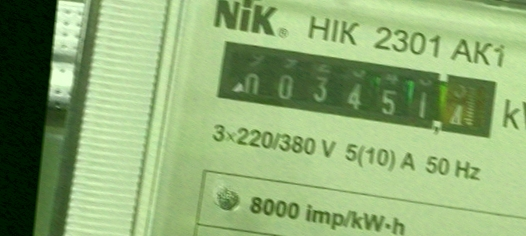0: (239, 66, 262, 95), (274, 70, 296, 100)
1: (413, 86, 432, 119)
3: (309, 70, 331, 103)
4: (342, 78, 365, 112), (444, 99, 467, 128)
5: (378, 84, 398, 116)
screen: (208, 33, 504, 145)
